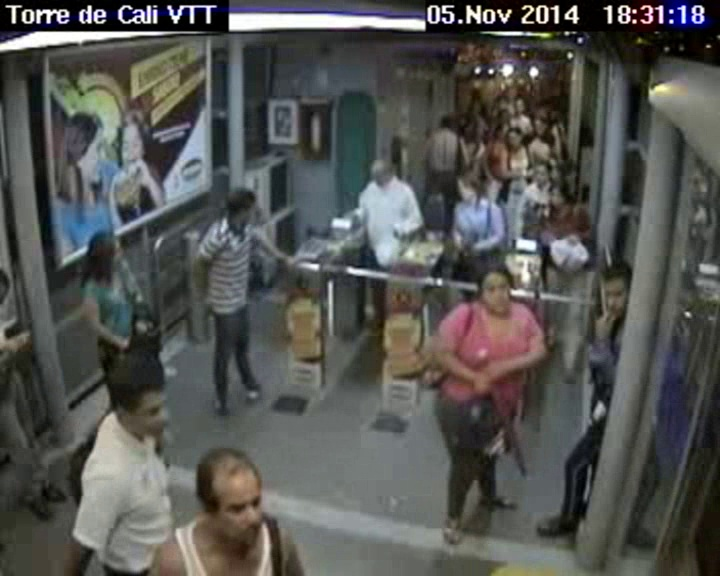person: (196, 439, 269, 547), (98, 349, 167, 432), (77, 224, 137, 285), (469, 265, 519, 320), (221, 181, 261, 232), (599, 259, 635, 309), (367, 151, 398, 200), (456, 170, 485, 201), (530, 161, 561, 189), (544, 181, 575, 207), (529, 115, 550, 137), (434, 107, 451, 130), (459, 113, 473, 139), (512, 96, 530, 114), (510, 127, 524, 149), (490, 123, 506, 138)
